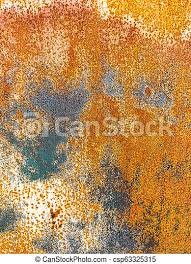rust: (1, 1, 191, 255)
